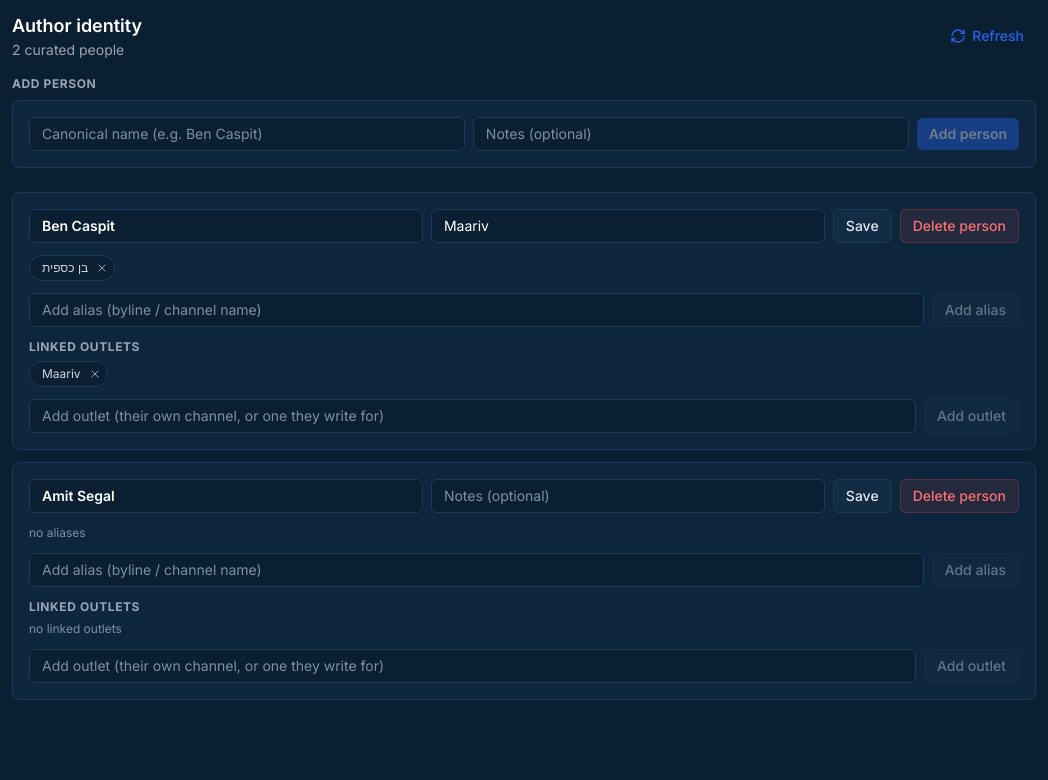
AuthorsTab › shows the error banner when a write fails and does not reload
expect the 1st field showing "Ben Caspit" is shown: met, box [29,209,423,243]
Type "Ben Caspit" into the field with placeholder "Canonical name (e.g. Ben Caspit)" at (247,134), box [29,117,465,151]
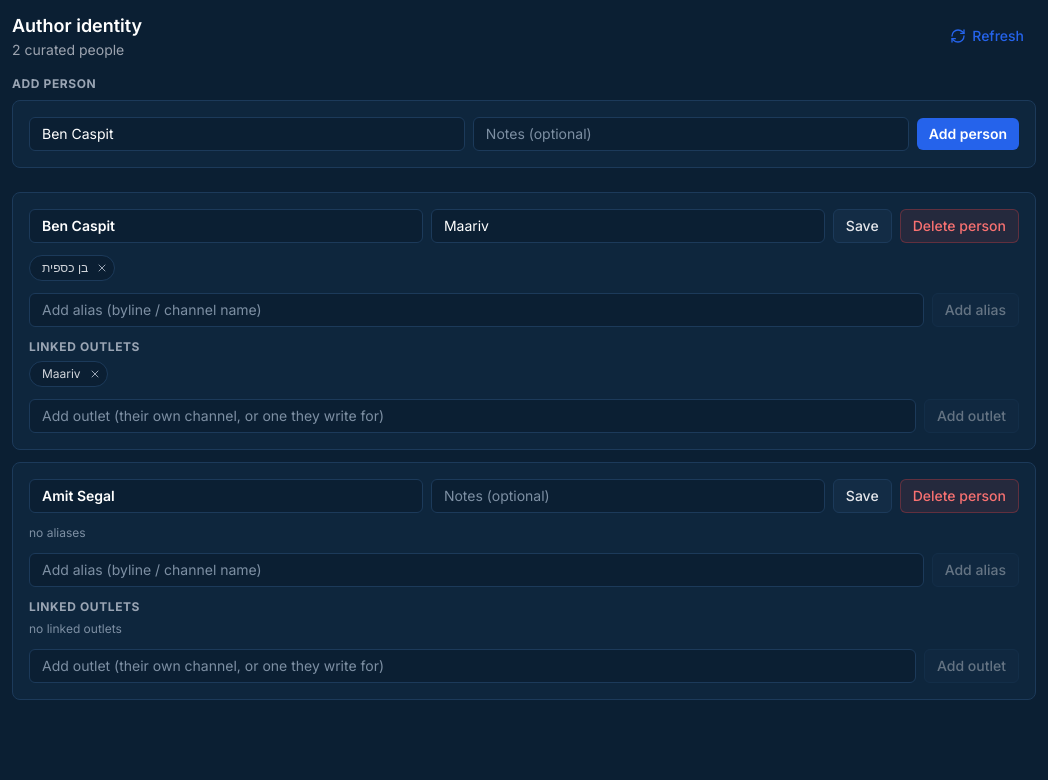
Click the button "Add person" at (968,134), box [917,118,1019,150]
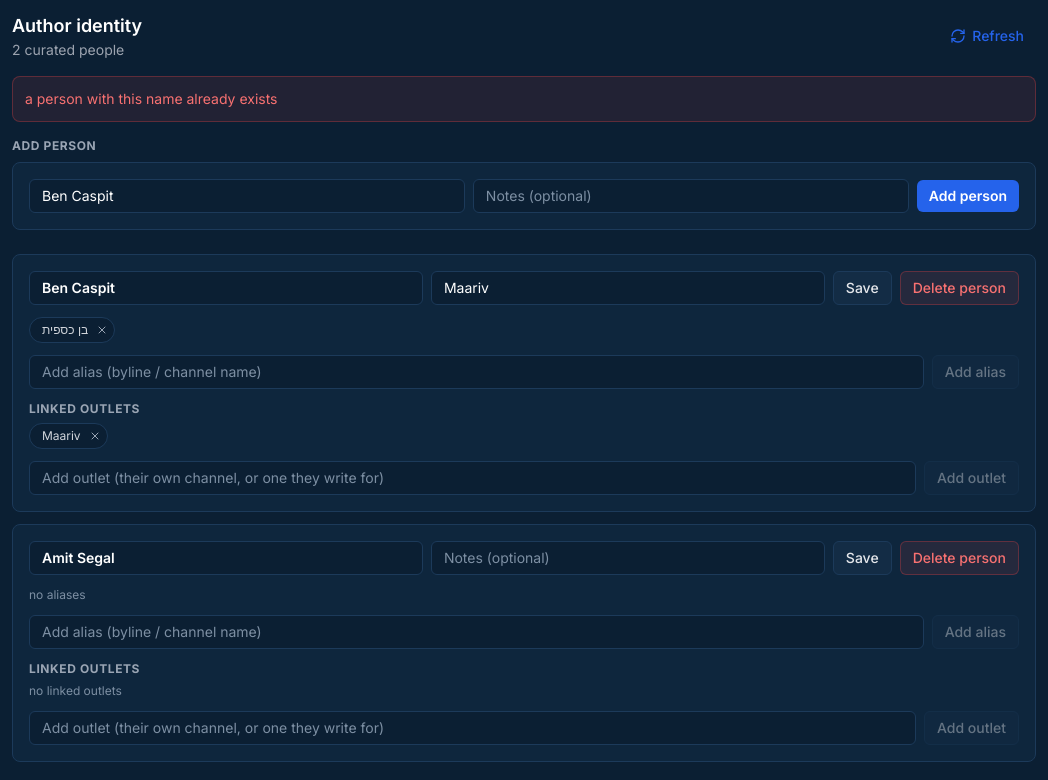
expect the text "a person with this name already exists" is shown: met, box [12,76,1036,122]
